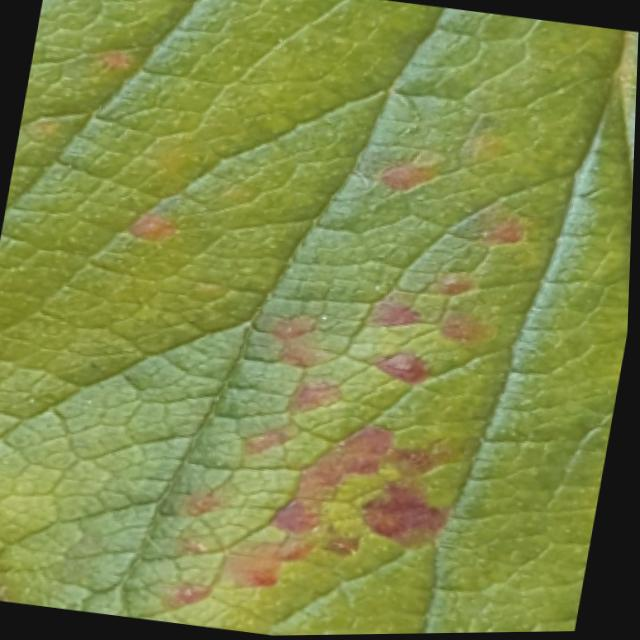Angular Leafspot: (0, 33, 550, 623)
